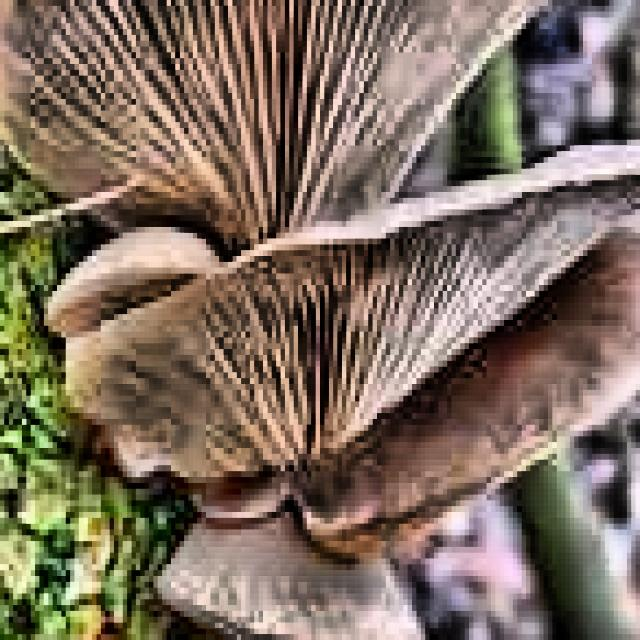Affected: (158, 0, 438, 233), (263, 262, 384, 431), (488, 326, 616, 444)
